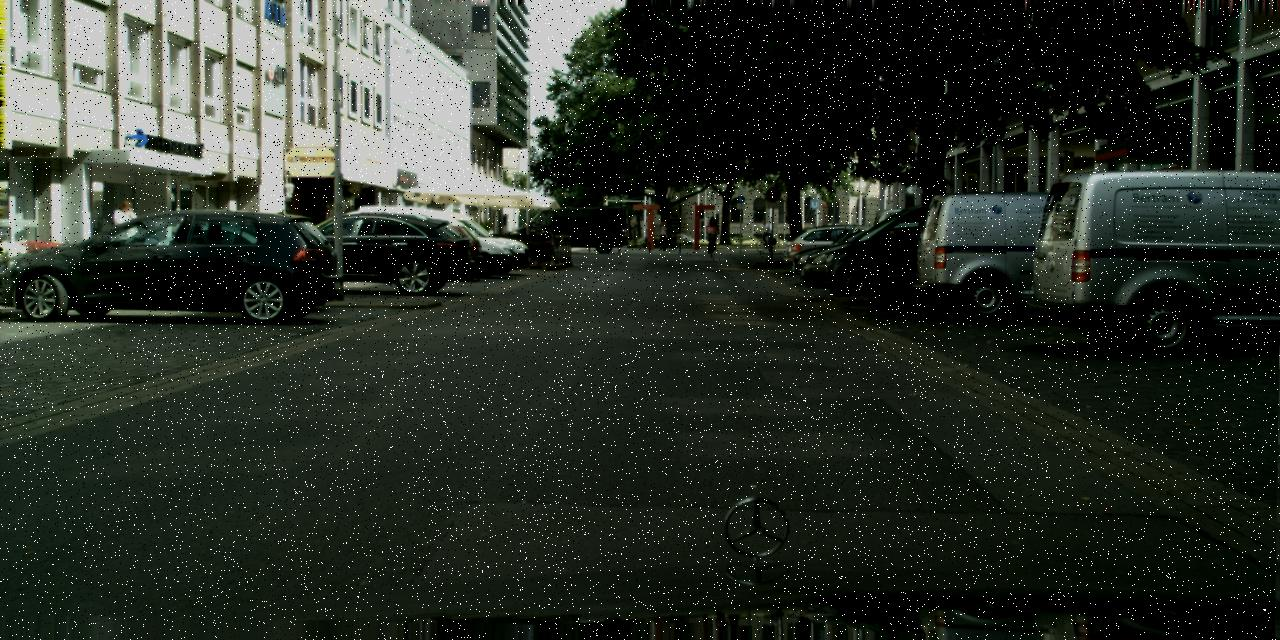ped: (112, 200, 143, 277), (705, 216, 719, 251), (658, 220, 668, 250), (760, 219, 770, 245)
